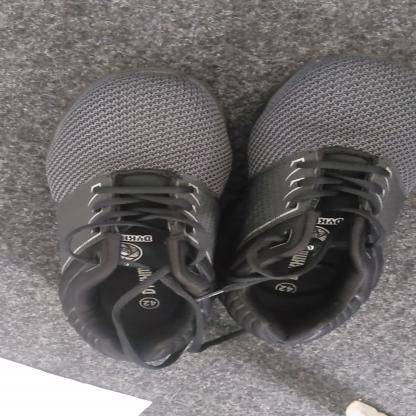safety-shoe: (46, 55, 416, 363)
